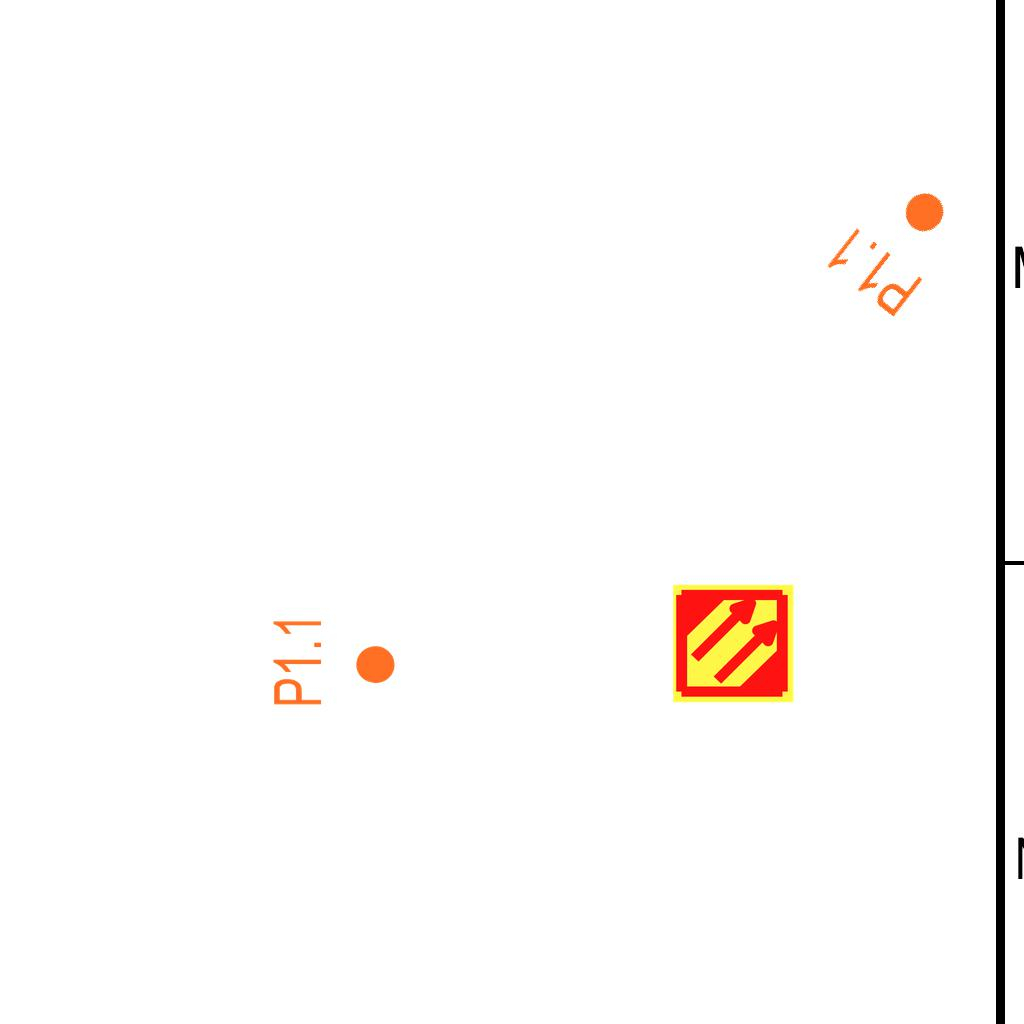ASR_Ansaugrauchmelder: (671, 581, 796, 706)
Downlight_LED_Einbauleuchten_Flur: (820, 163, 973, 323), (270, 615, 398, 708)
